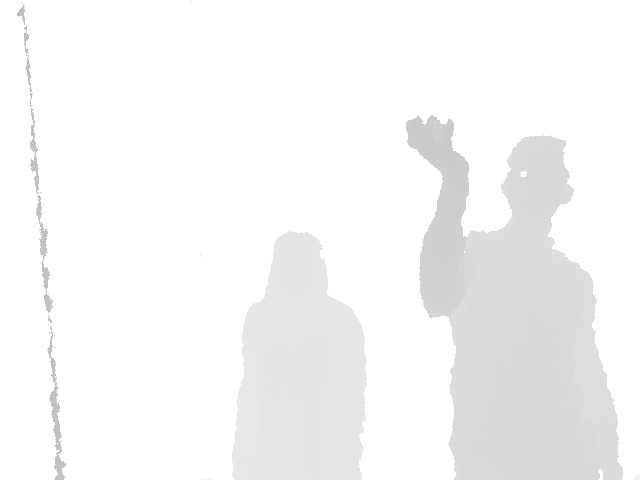hand: (405, 115, 471, 182)
head: (499, 134, 575, 233), (263, 230, 329, 299)
person: (405, 115, 626, 480), (230, 231, 369, 480)
